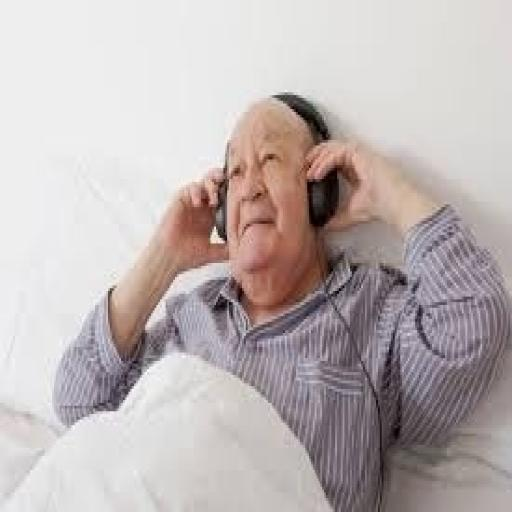listening_to_music: (50, 87, 510, 509)
